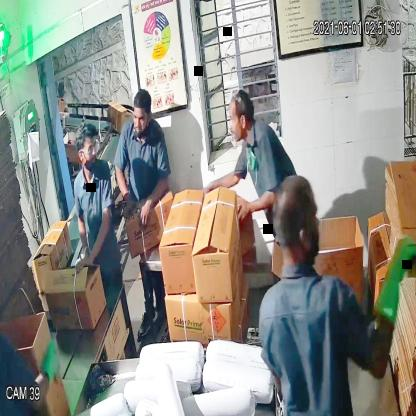goggles: (75, 137, 100, 164)
no_goggles: (223, 109, 252, 131)
